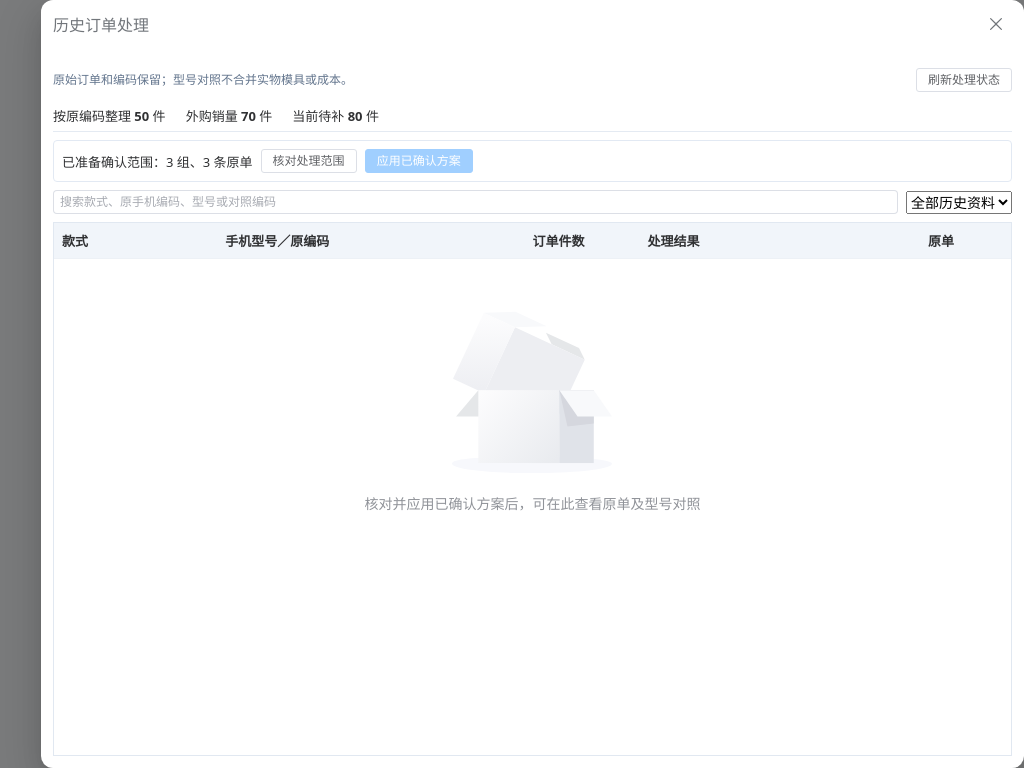
it: historical sales classification and display-only phone references › keeps a failed preview closed to writes and exposes a retry without clearing originals
Step 1. Click the button "核对处理范围" → (309,161), box x1=261 y1=149 x2=357 y2=173
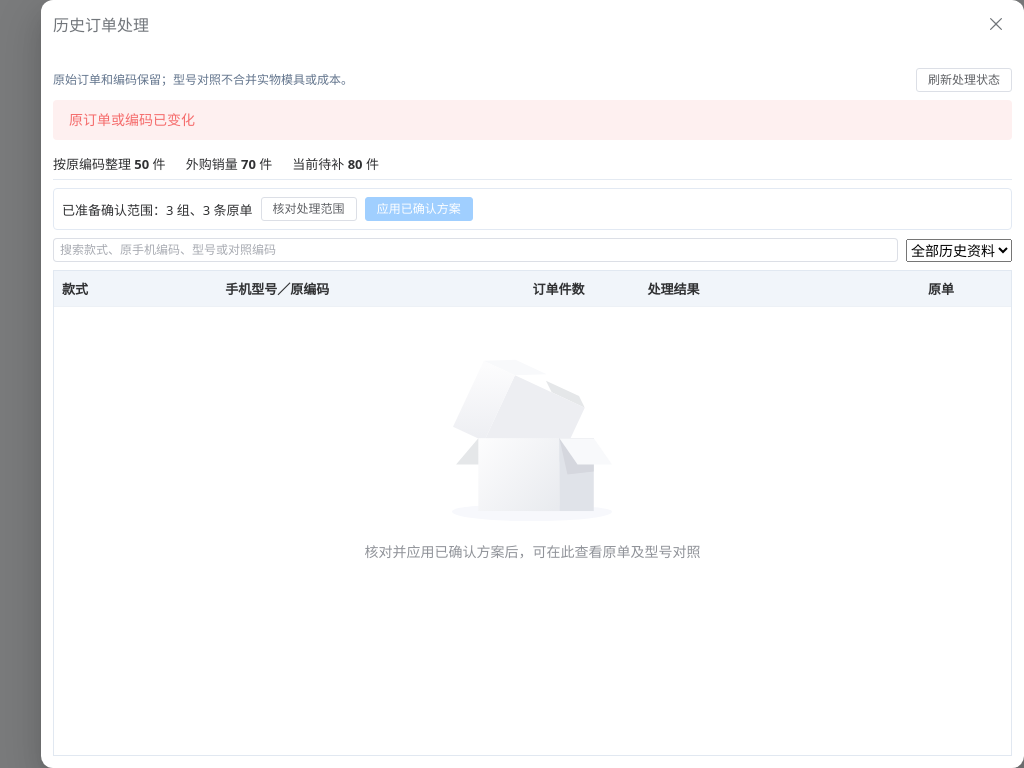
Check: the button "应用已确认方案" is disabled, box x1=365 y1=197 x2=473 y2=221
Check: the text "原订单或编码已变化" is shown, box x1=69 y1=108 x2=195 y2=132
